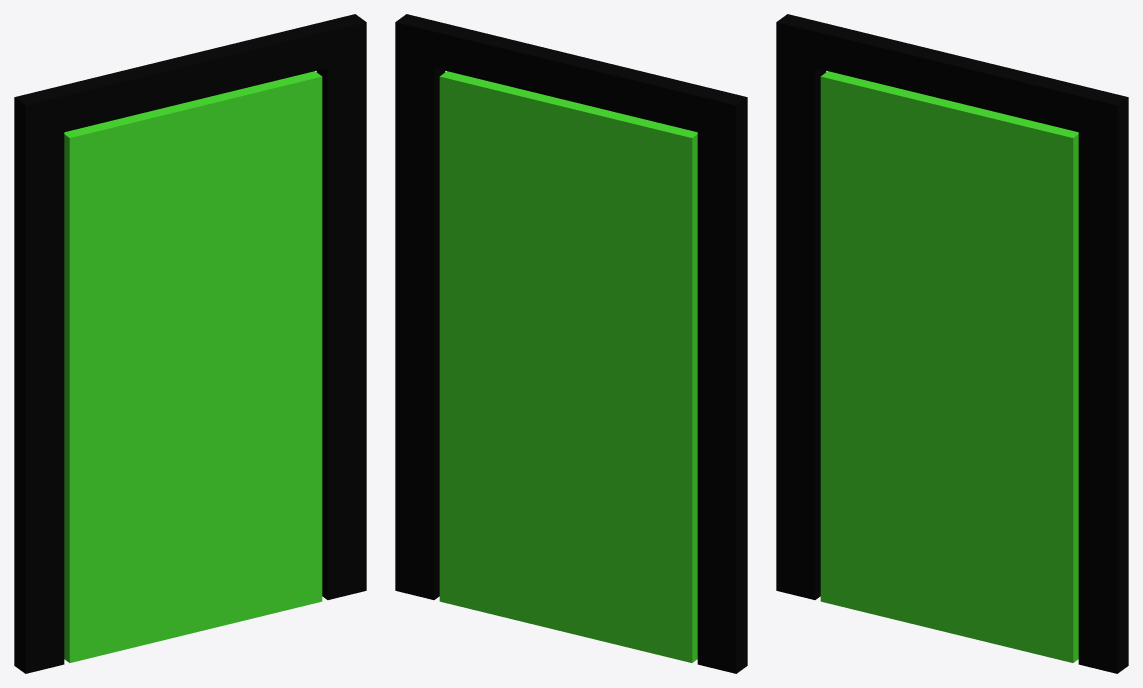
The model's file is SquareDoor.fbx.
3 views of the same model, side by side, from view 1: azimuth 30°, elevation 25°; view 2: azimuth 150°, elevation 25°; view 3: azimuth 330°, elevation 25° (orthographic).
Parts seen in each view (by area): view 1: Door; view 2: Door; view 3: Door.
Part boxes in pixels (box(x1,y1,x2,y2)): Door: box(14, 14, 366, 673); Door: box(395, 14, 747, 673); Door: box(776, 14, 1128, 673).
Bounding box in the file's own units: 136 × 217 × 7.73.
